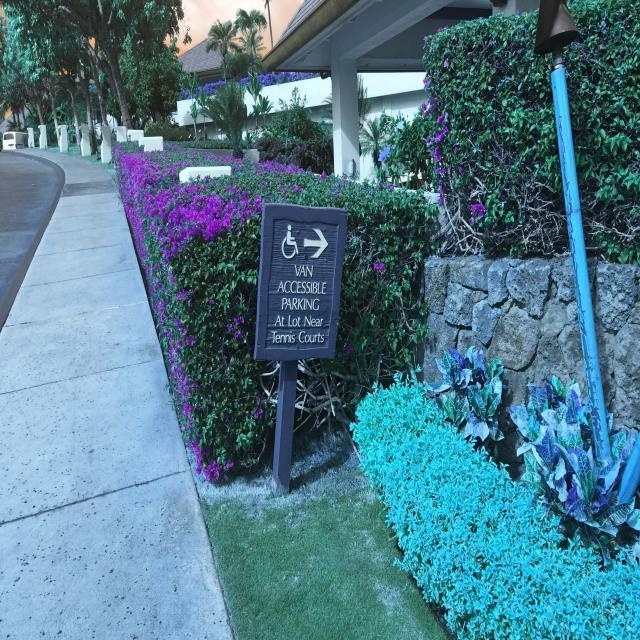ISA: (280, 221, 300, 260)
